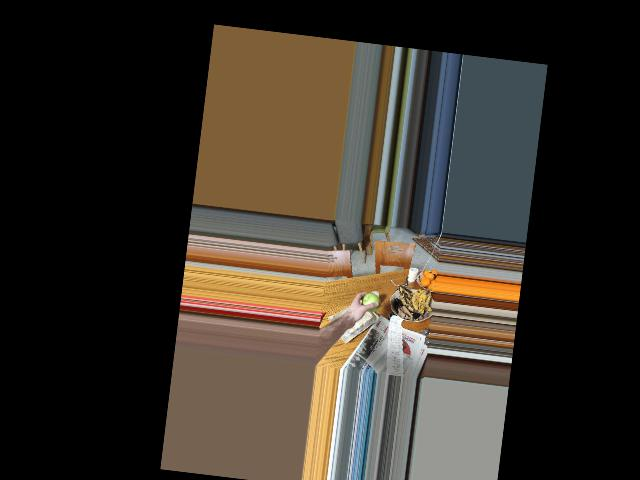apple: (357, 289, 381, 317)
